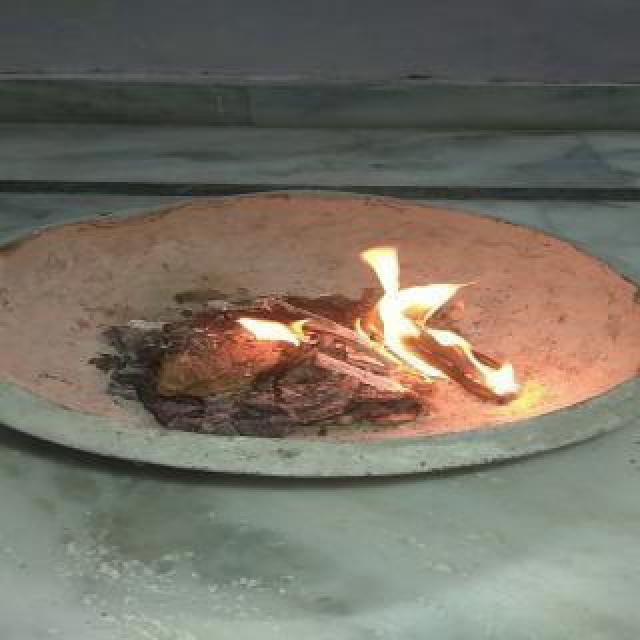zfire: (338, 242, 522, 394), (224, 300, 326, 352)
